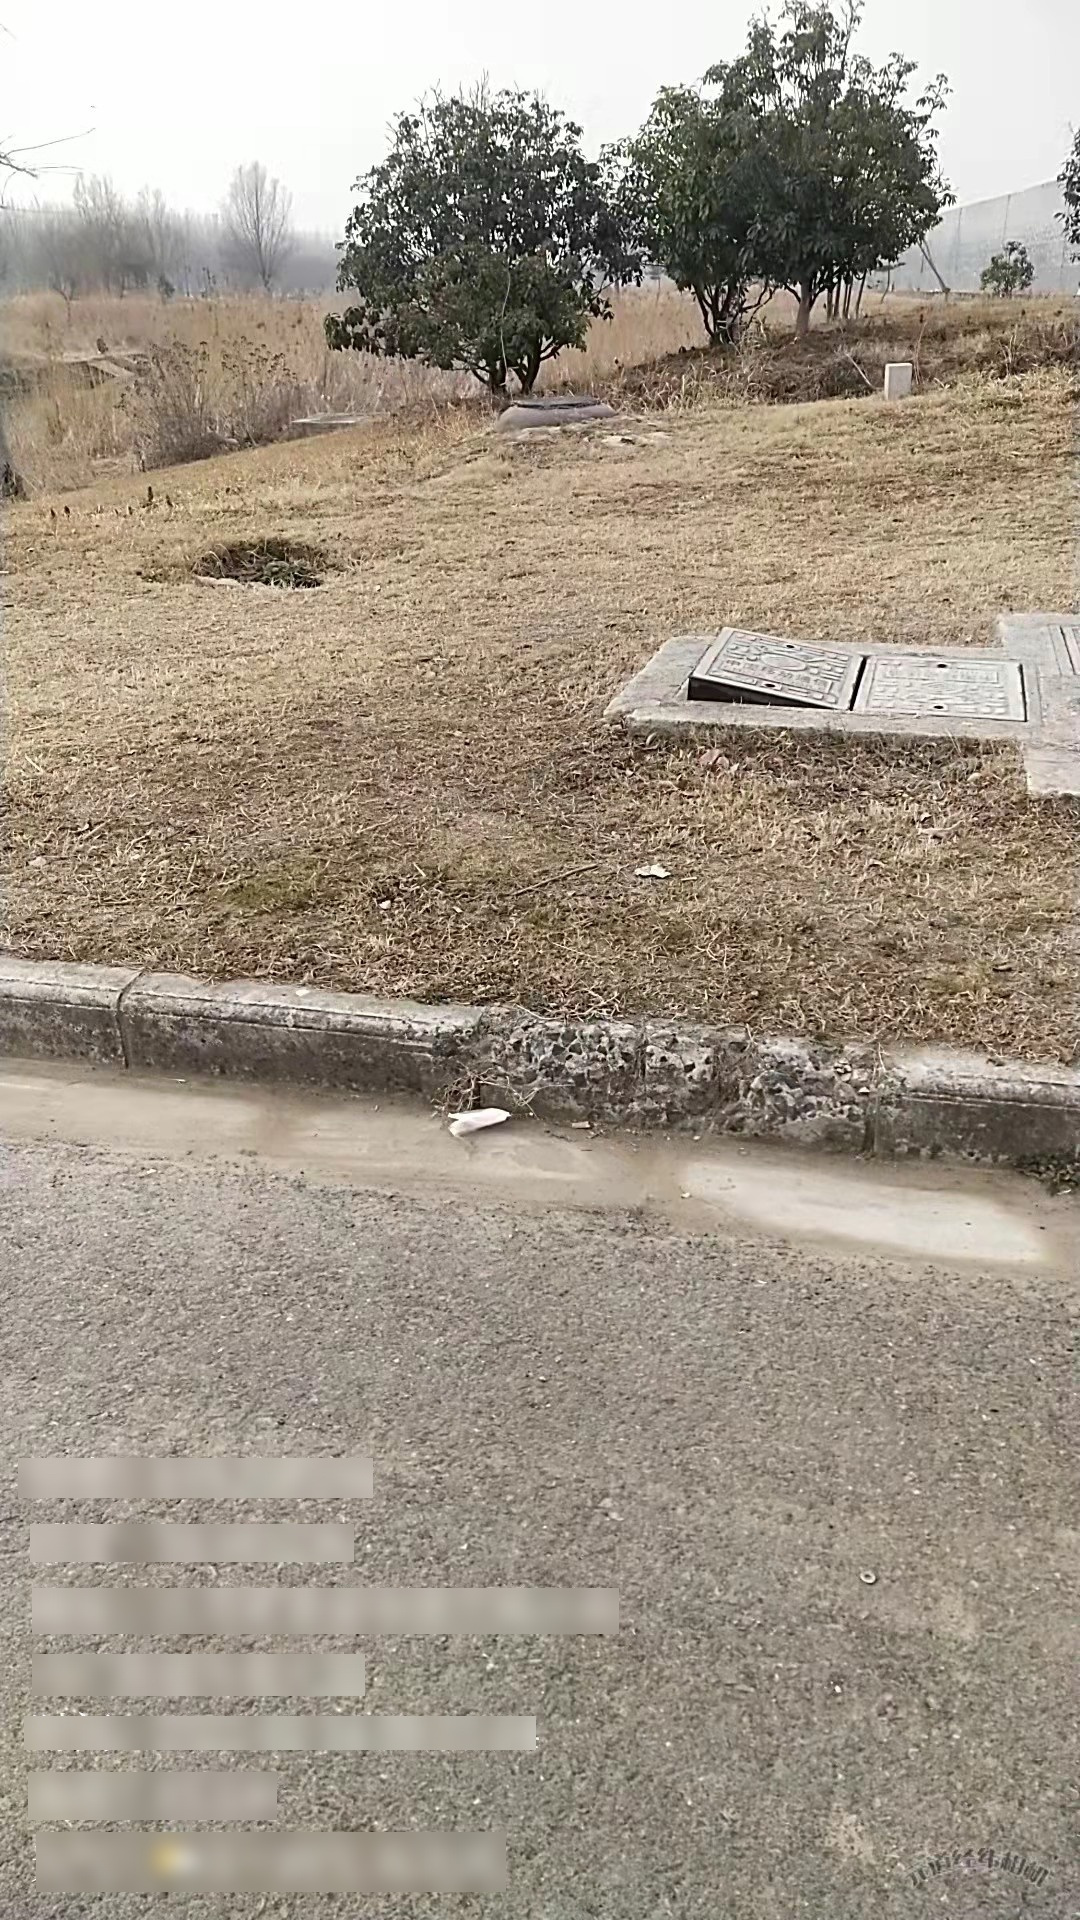uncovered: (661, 618, 1029, 727)
